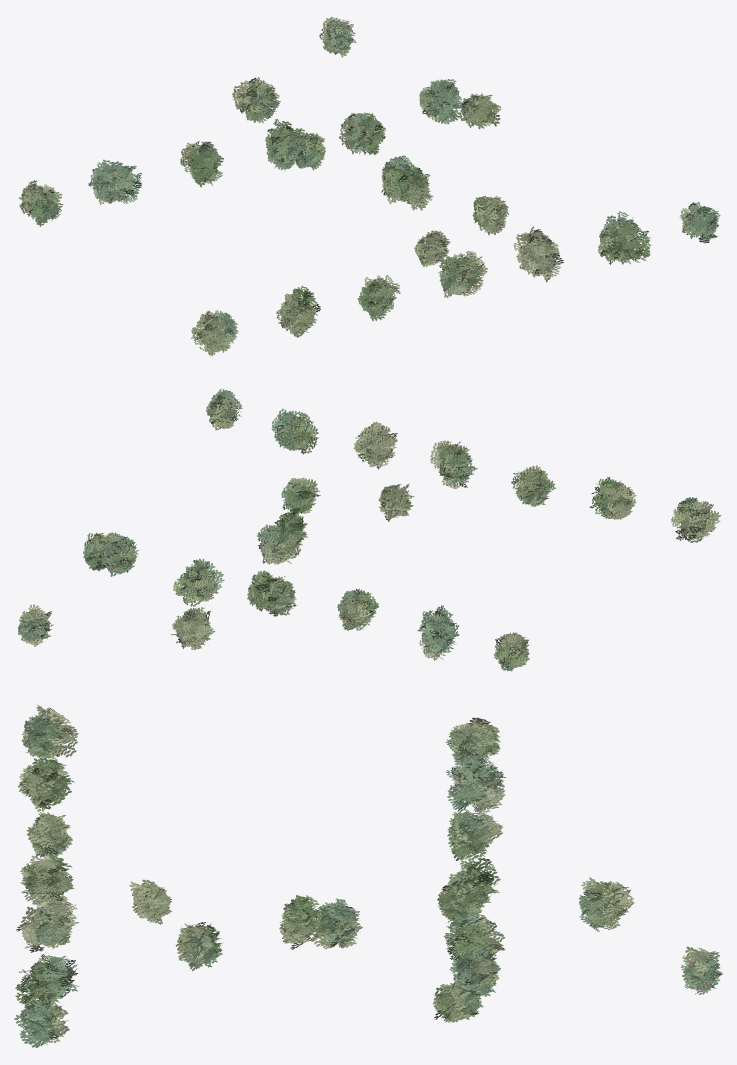
The model's file is campus-tree--5_-1-middle.glb.
The picture shows the model from 3 angles, top to bottom: view 1: azimuth 30°, elevation 25°; view 2: azimuth 150°, elevation 25°; view 3: azimuth 270°, elevation 25°; orthographic projection. The views are drawn at different scales.
Parts seen in each view (by area): view 1: Campus leaf canopy; view 2: Campus leaf canopy; view 3: Campus leaf canopy.
Part boxes in pixels (box(x1,y1,x2,y2)): Campus leaf canopy: box(18, 16, 720, 356); Campus leaf canopy: box(18, 389, 721, 671); Campus leaf canopy: box(14, 704, 722, 1047).
Size of the model in its own units: 72.58 by 7.96 by 71.48.
1 material, 1 textured.
